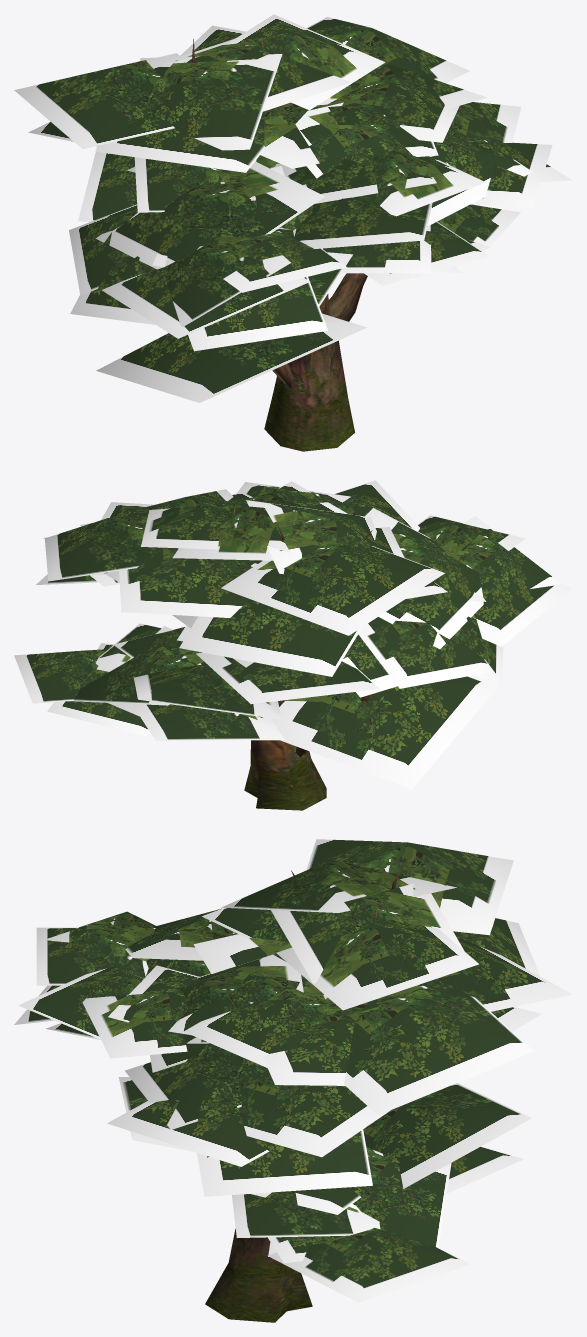
The model's file is environment_Tree_red_002_a.FBX.
3 views of the same model, one above another, from view 1: azimuth 30°, elevation 25°; view 2: azimuth 150°, elevation 25°; view 3: azimuth 270°, elevation 25° (orthographic). The views are drawn at different scales.
Parts seen in each view (by area): view 1: environment_Tree_red_002_b1; view 2: environment_Tree_red_002_b1; view 3: environment_Tree_red_002_b1.
Part boxes in pixels (box(x1,y1,x2,y2)): environment_Tree_red_002_b1: box(14, 14, 572, 451); environment_Tree_red_002_b1: box(14, 480, 572, 810); environment_Tree_red_002_b1: box(14, 839, 572, 1322).
Bounding box in the file's own units: 517 × 361 × 449.
